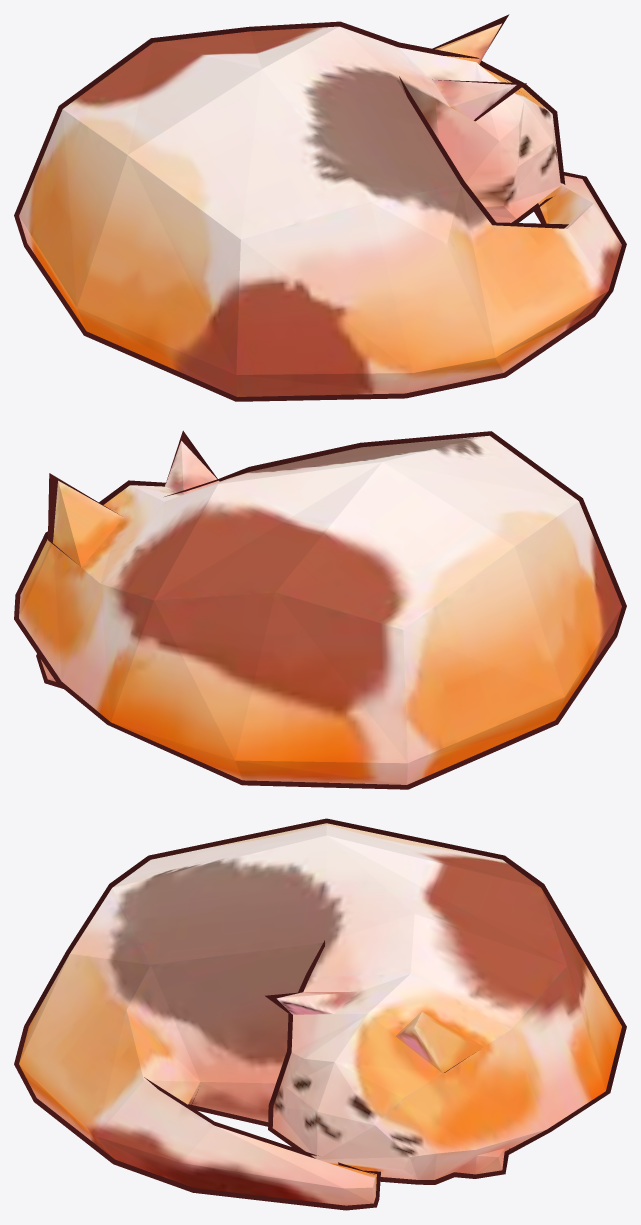
Rendered from sleeping_cat.glb.
3 views of the same model, one above another, from view 1: azimuth 30°, elevation 25°; view 2: azimuth 150°, elevation 25°; view 3: azimuth 270°, elevation 25° (orthographic).
Visible parts, largest first — view 1: Object_2, Object_3; view 2: Object_2, Object_3; view 3: Object_2, Object_3.
Boxes of the visible parts, x1=… form: Object_2: x1=19, y1=23, x2=621, y2=396; Object_3: x1=14, y1=14, x2=626, y2=401; Object_2: x1=19, y1=435, x2=621, y2=784; Object_3: x1=14, y1=430, x2=626, y2=789; Object_2: x1=19, y1=823, x2=621, y2=1205; Object_3: x1=14, y1=818, x2=626, y2=1210.
Size of the model in its own units: 1.98 by 0.8278 by 2.04.
2 materials, 1 textured.
